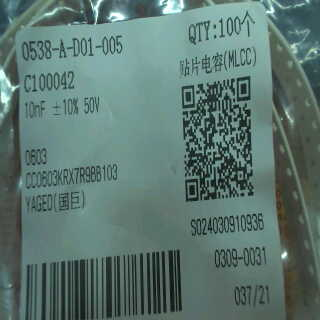10nF: (21, 96, 48, 124)
